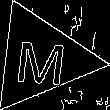M_N: (12, 31, 69, 86)
